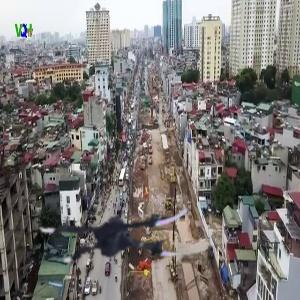drone: (43, 148, 193, 298)
